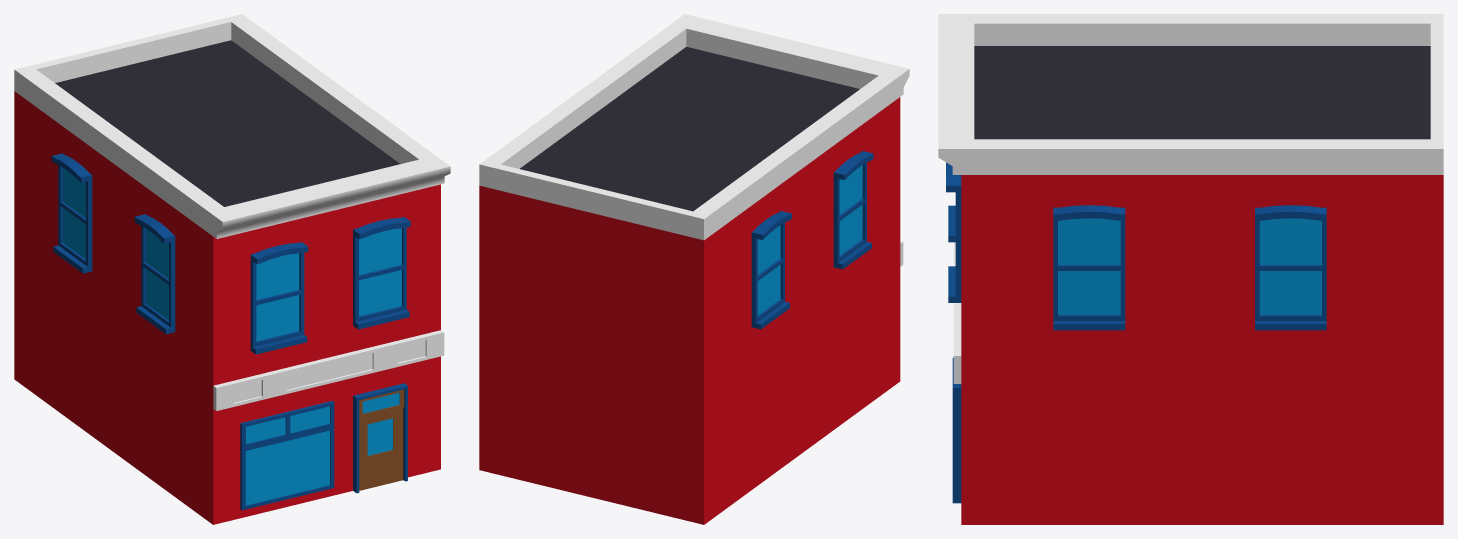
The model's file is Building_07.fbx.
3 renders of one model, left to right at view 1: azimuth 30°, elevation 25°; view 2: azimuth 150°, elevation 25°; view 3: azimuth 270°, elevation 25°, orthographic. The views are drawn at different scales.
Visible parts, largest first — view 1: B7; view 2: B7; view 3: B7.
Part boxes in pixels (x1,y1,x2,y2): B7: [14, 14, 450, 524]; B7: [479, 14, 909, 524]; B7: [938, 14, 1443, 524].
Bounding box in the file's own units: 12.18 × 14.43 × 17.57.
1 material, 1 textured.
